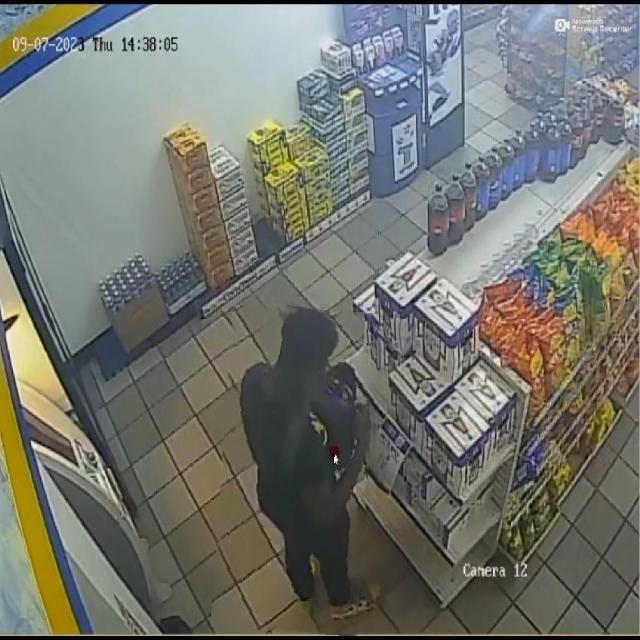Shoplifting: (215, 307, 374, 634)
